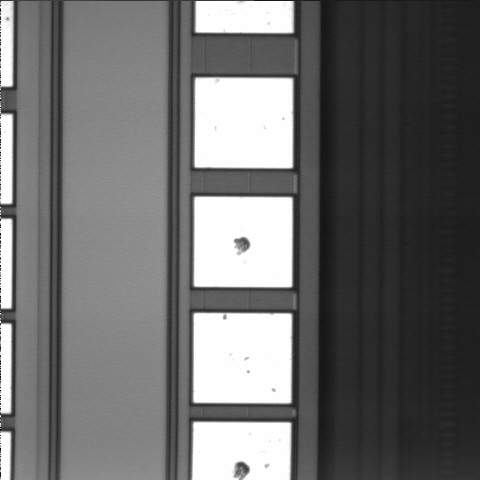pad: (193, 313, 292, 403), (195, 78, 293, 168), (194, 197, 292, 287)
